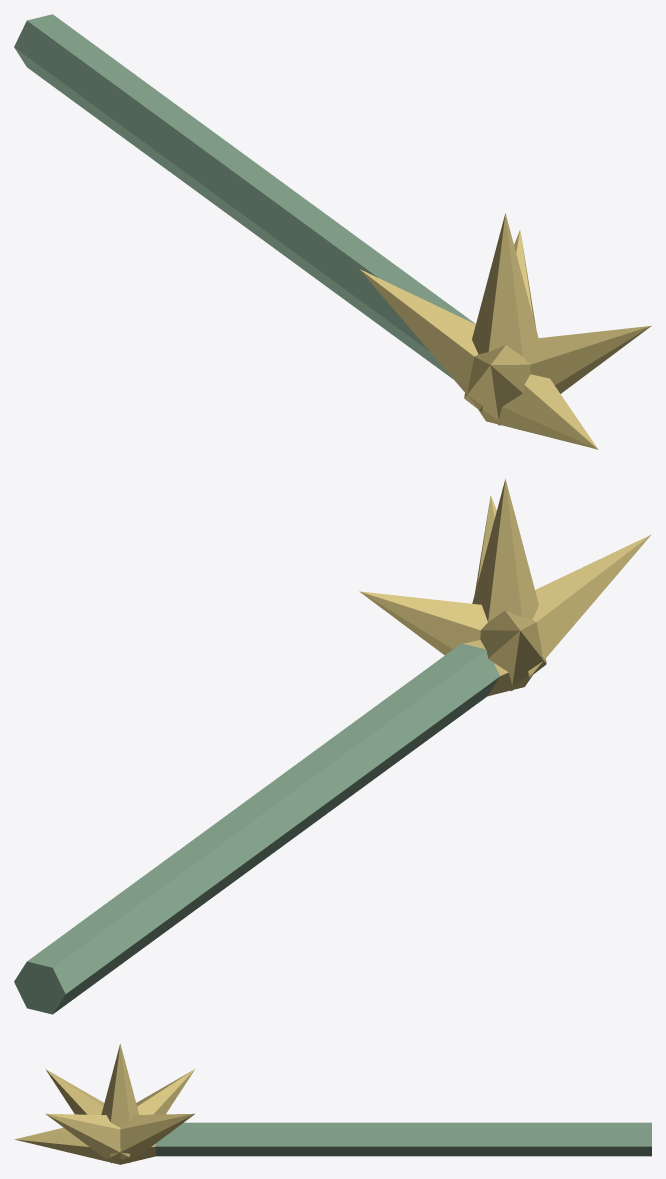
The model's file is dandelion.glb.
3 renders of one model, top to bottom at view 1: azimuth 30°, elevation 25°; view 2: azimuth 150°, elevation 25°; view 3: azimuth 270°, elevation 25°, orthographic. The views are drawn at different scales.
Parts seen in each view (by area): view 1: world; view 2: world; view 3: world.
Part boxes in pixels (x1=…): world: x1=14, y1=14, x2=651, y2=449; world: x1=14, y1=478, x2=651, y2=1014; world: x1=14, y1=1043, x2=651, y2=1164.
Bounding box in the file's own units: 0.25 × 0.302 × 1.5.
